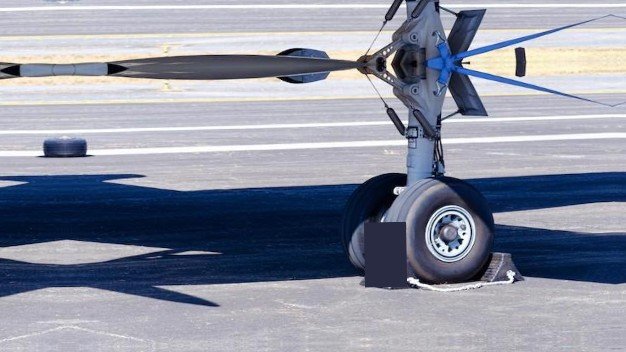chock: (358, 253, 421, 292), (468, 251, 527, 286)
wheel: (388, 177, 494, 284), (337, 171, 409, 274), (64, 136, 87, 157), (43, 137, 65, 158)
